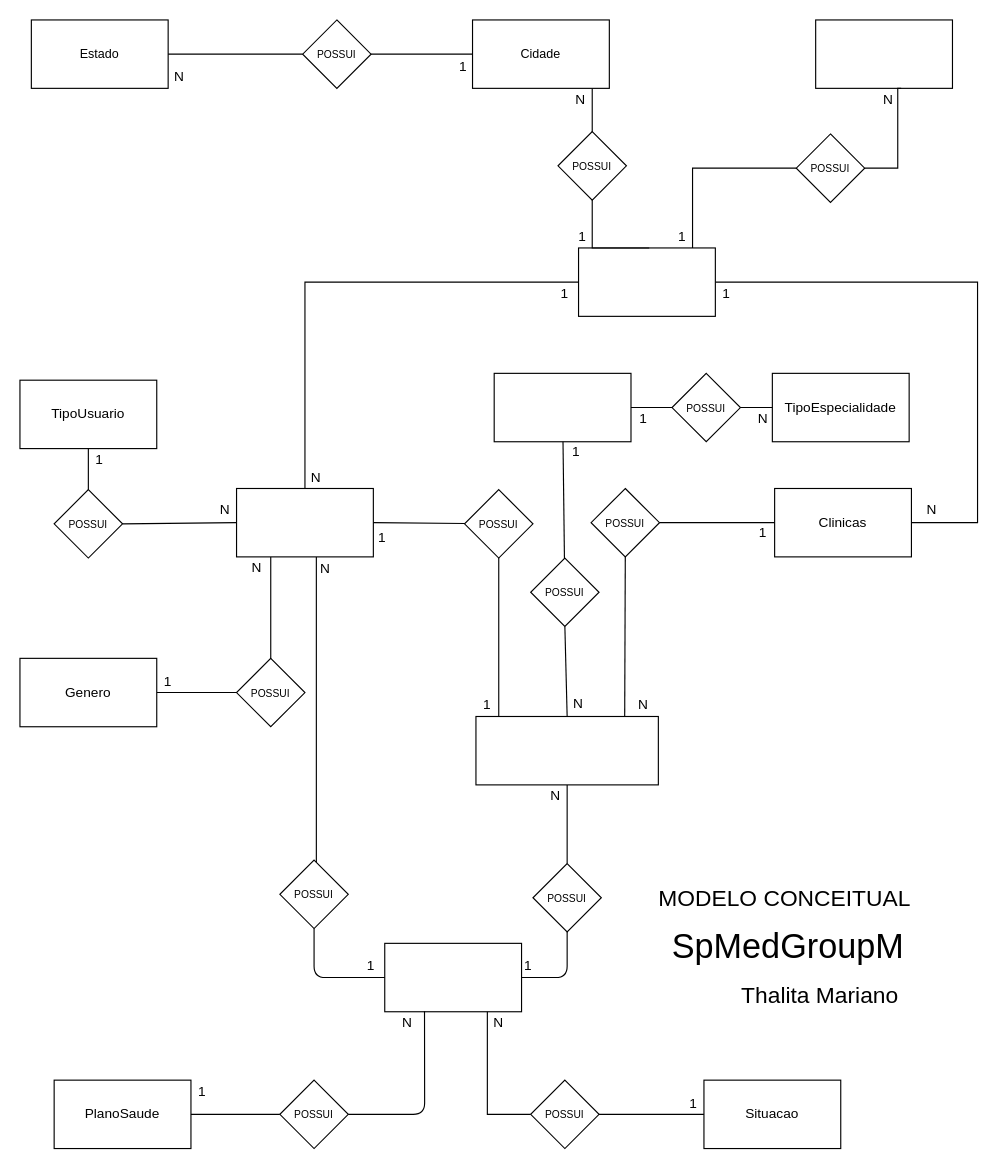
Image size: 999x1169. Some labels were removed from this diagram. Here are the shapes that lost their labels. From the top down, the centre of each, then its label:
the point at 883,53: CEP
the point at 646,281: Endereco
the point at 562,407: EspecialidadeMedico
the point at 304,522: Usuarios
the point at 566,750: Medicos
the point at 453,977: Consultas
